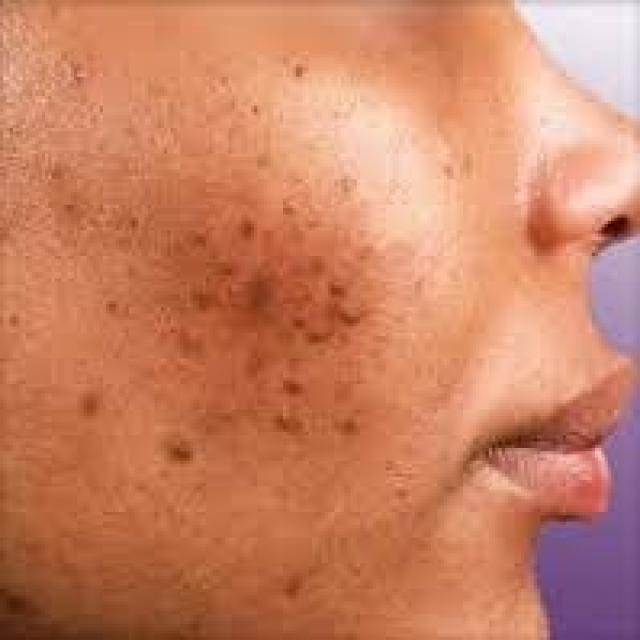pigmentation: (161, 205, 383, 425)
